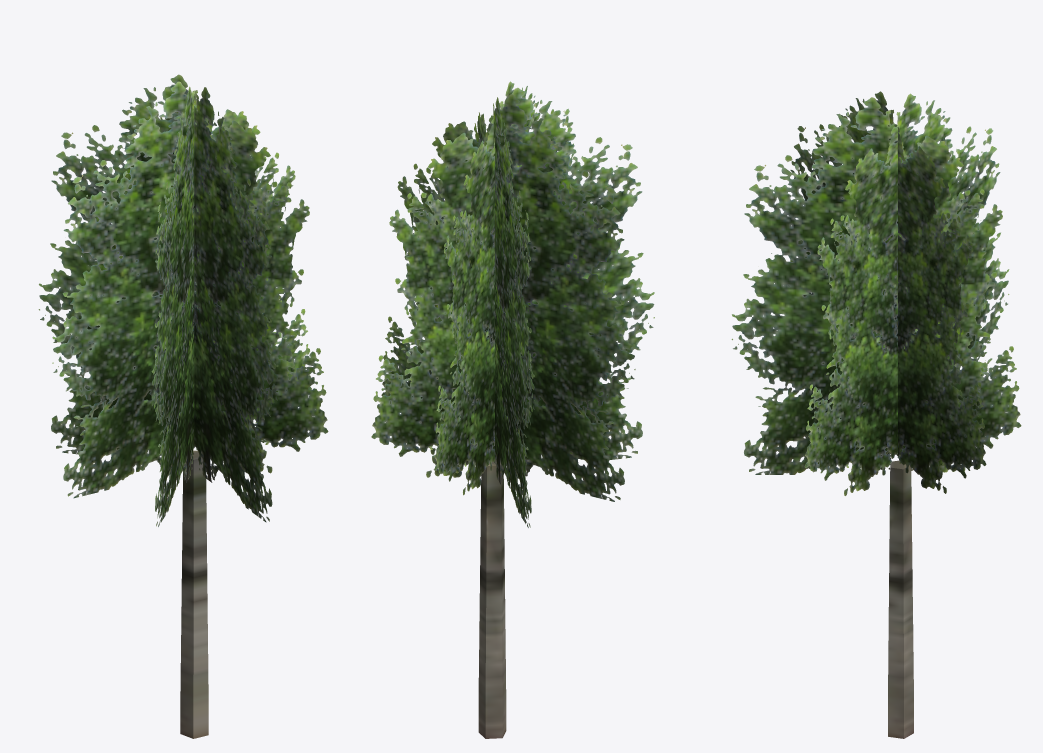
Rendered from Tree2.fbx.
3 views of the same model, side by side, from view 1: azimuth 30°, elevation 25°; view 2: azimuth 150°, elevation 25°; view 3: azimuth 270°, elevation 25° (orthographic). The views are drawn at different scales.
Visible parts, largest first — view 1: Tree2; view 2: Tree2; view 3: Tree2.
Boxes of the visible parts, bbox=[...] form: Tree2: bbox=[38, 74, 328, 738]; Tree2: bbox=[371, 81, 654, 738]; Tree2: bbox=[731, 91, 1021, 738].
Bounding box in the file's own units: 879 × 1932 × 879.
